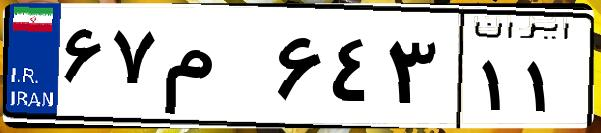1: (475, 38, 525, 113), (525, 38, 570, 115)
3: (385, 28, 445, 110)
4: (330, 28, 385, 110)
6: (270, 28, 330, 110), (57, 26, 110, 100)
7: (110, 28, 158, 98)
م: (158, 20, 270, 120)
